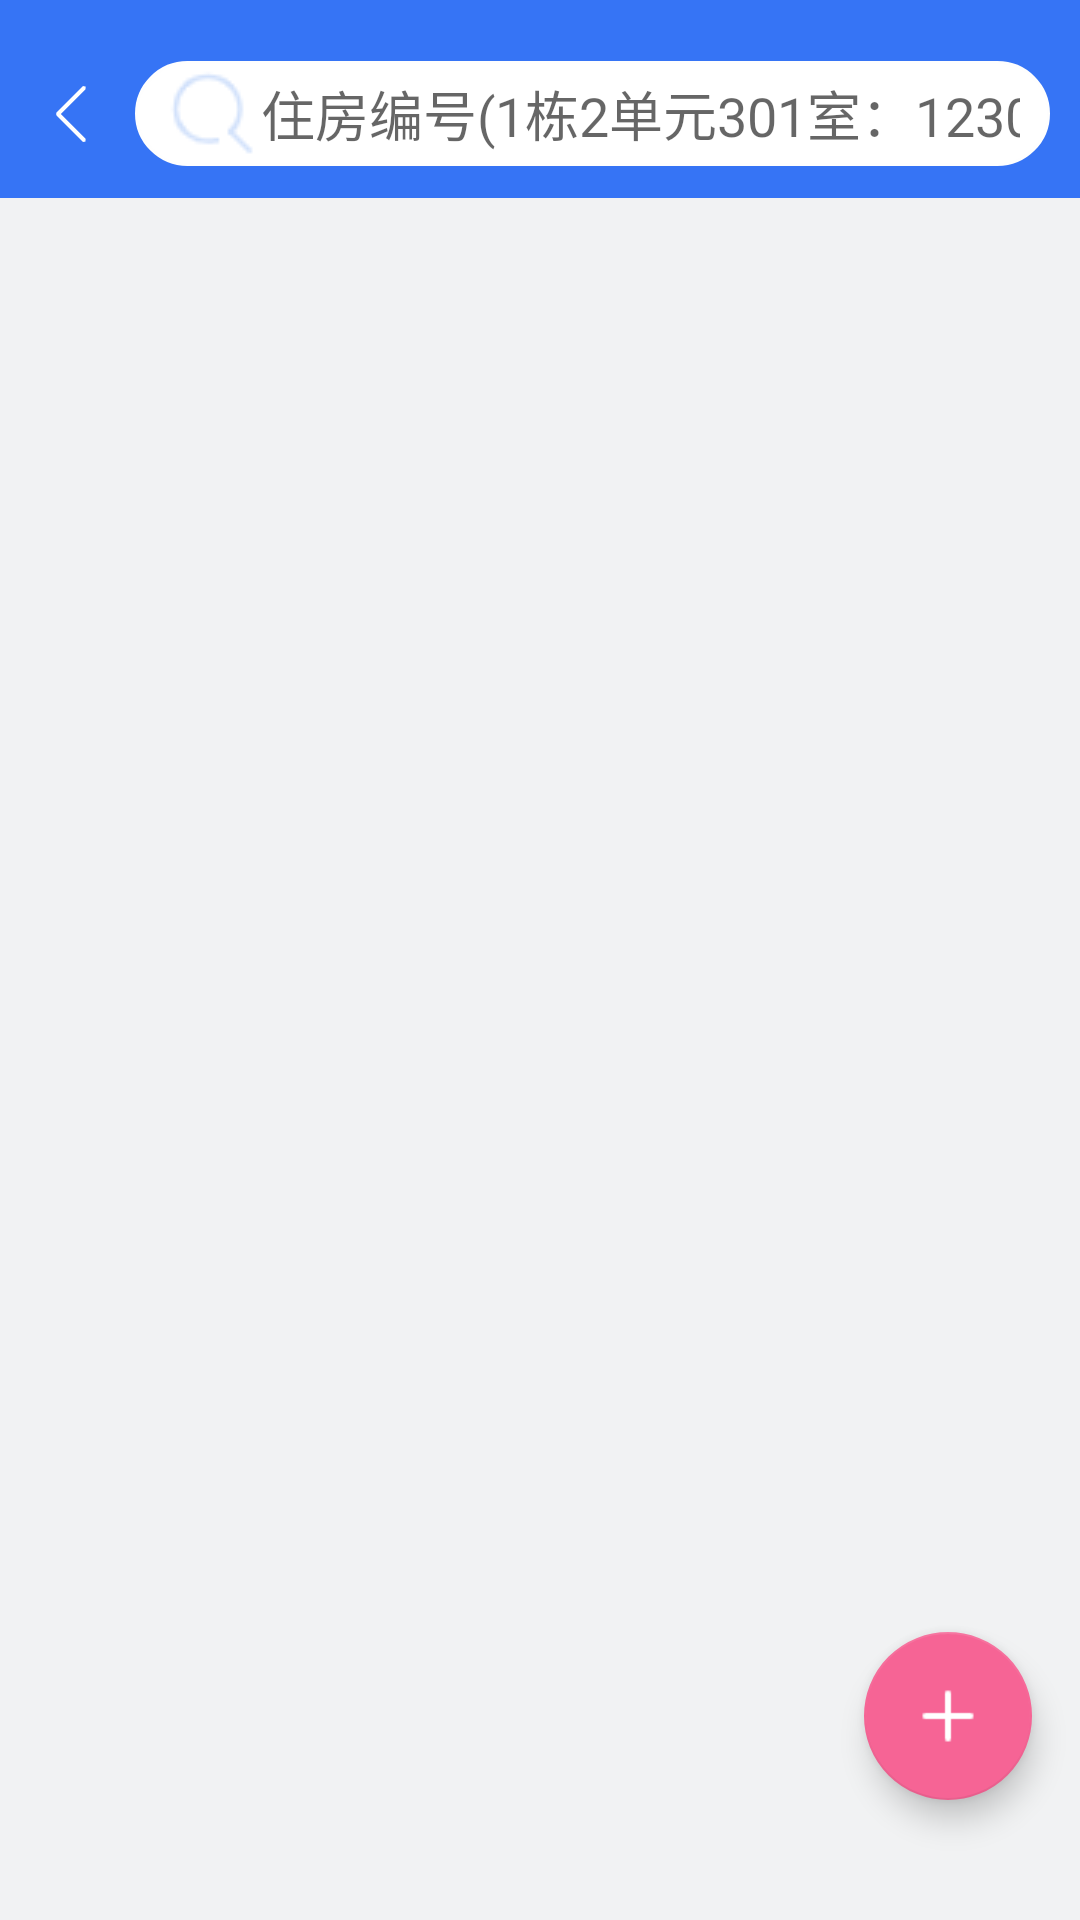

Where to tap for icons on this 1080px x 1920px app screen, as (x,y):
add: (948,1716)
back: (71,114)
